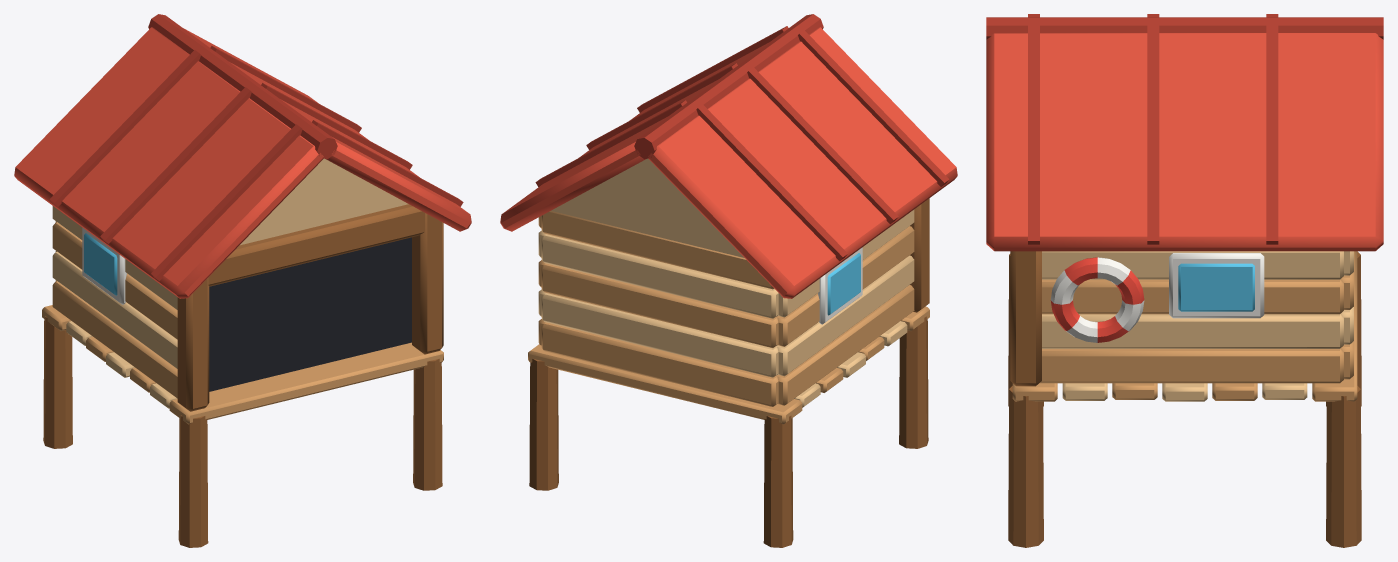
File: boathouse.fbx
3 renders of one model, left to right at view 1: azimuth 30°, elevation 25°; view 2: azimuth 150°, elevation 25°; view 3: azimuth 270°, elevation 25°, orthographic. The views are drawn at different scales.
Visible parts, largest first — view 1: boathouse; view 2: boathouse; view 3: boathouse.
Part boxes in pixels (x1,y1,x2,y2): boathouse: (14,14,471,547); boathouse: (500,14,957,547); boathouse: (986,14,1383,547).
Size of the model in its own units: 1.05 by 1.27 by 1.
